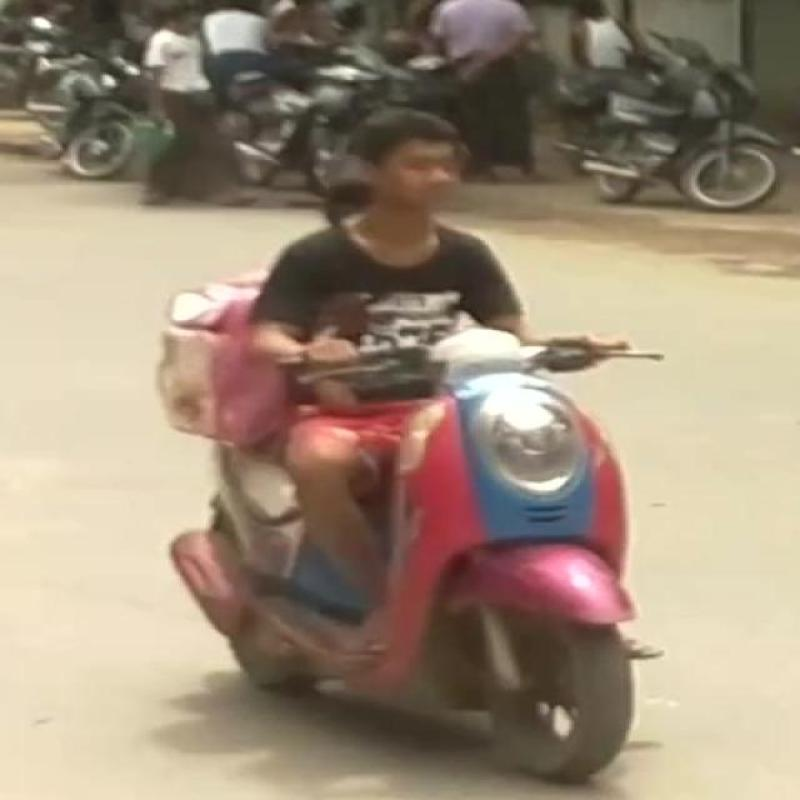nohelmet: (320, 98, 491, 228)
